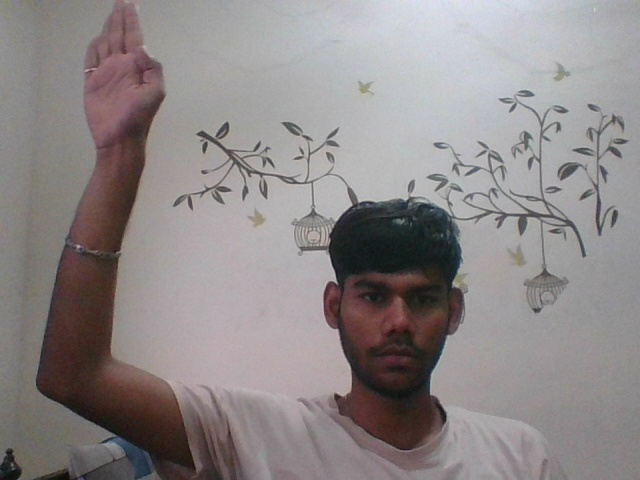Hello: (70, 1, 172, 157)
